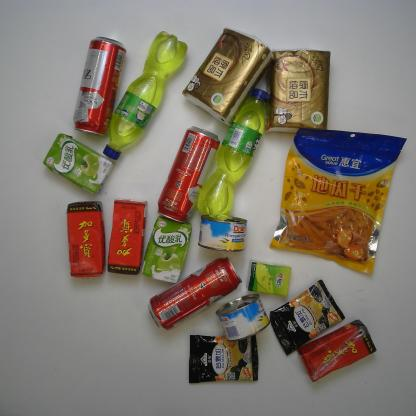Alcohol: (147, 256, 244, 333), (156, 124, 221, 223), (72, 33, 128, 137)
Canned Food: (214, 292, 271, 342), (196, 213, 250, 254)
Dried Fruit: (267, 127, 409, 277)
Drink: (101, 30, 190, 162), (196, 86, 272, 221), (297, 318, 378, 383), (106, 196, 149, 276), (66, 199, 107, 279)
Instant Drink: (269, 278, 348, 358), (184, 333, 265, 386)
Milk: (42, 131, 114, 195), (140, 216, 192, 286)
Tissue: (181, 26, 271, 128), (265, 47, 333, 137), (245, 258, 293, 298)
